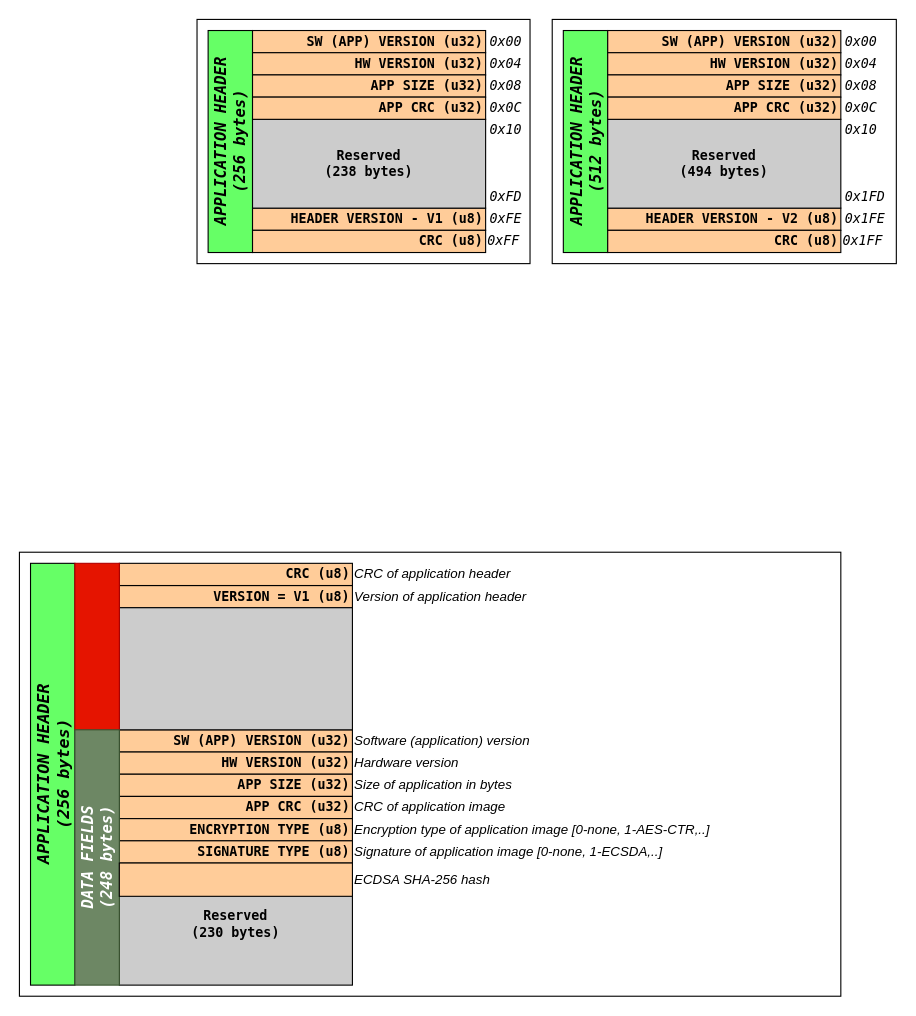
The diagram is 916 pixels wide and 1016 high, and some of its shapes have lost their labels. Here are the shapes that lost their labels. From the top down, the centre of each, then its label:
At pixel 96 646: "CONTROL FIELDS (8 bytes)".
At pixel 235 668: "Reserved (6 bytes)".
At pixel 235 879: "SIGNATURE HASH (SHA-256) (32*u32)".
